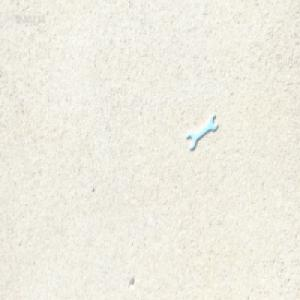Wrench: (186, 115, 217, 151)
